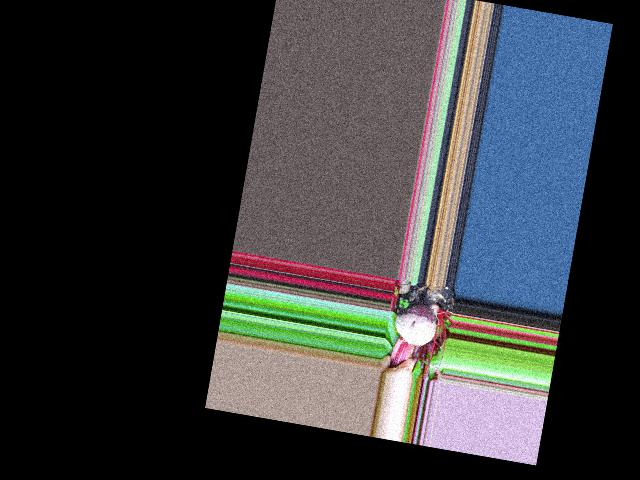beet: (387, 279, 443, 374)
